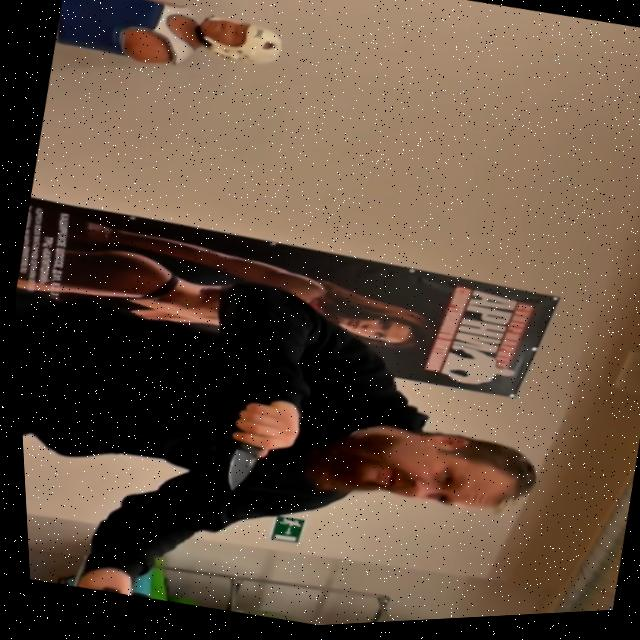knife: (208, 443, 260, 499)
